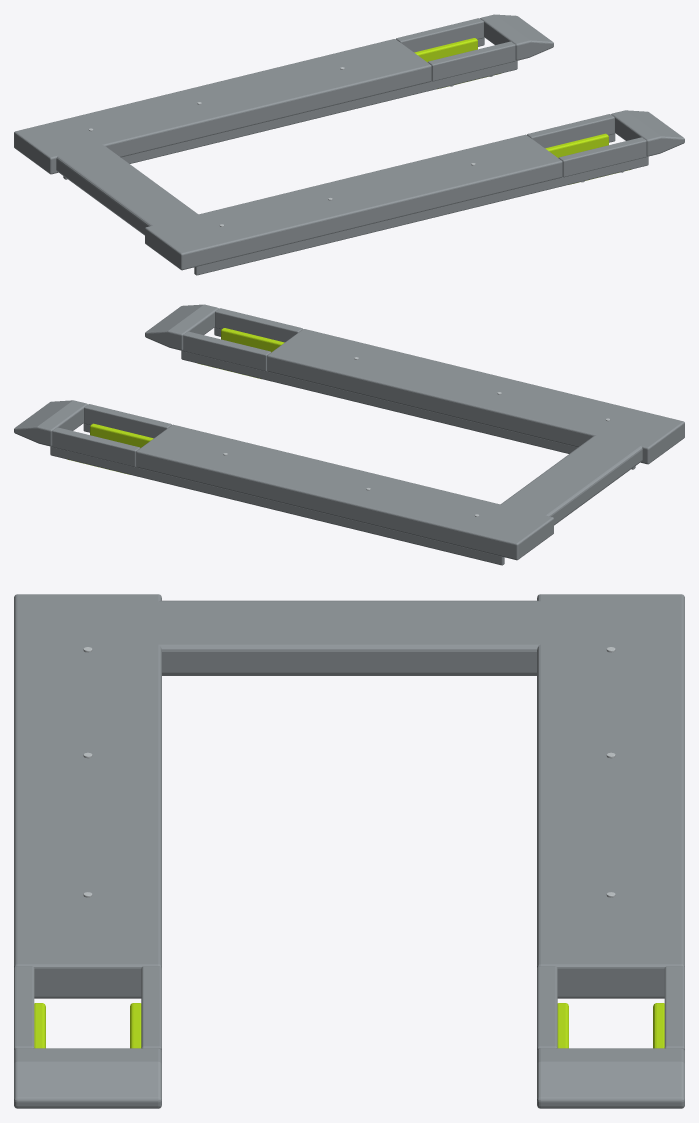
The model's file is SM_JX_ForkFrame.fbx.
3 renders of one model, top to bottom at view 1: azimuth 30°, elevation 25°; view 2: azimuth 150°, elevation 25°; view 3: azimuth 270°, elevation 25°, orthographic. The views are drawn at different scales.
Visible parts, largest first — view 1: SM_JX_ForkFrame; view 2: SM_JX_ForkFrame; view 3: SM_JX_ForkFrame.
Boxes of the visible parts, x1=… form: SM_JX_ForkFrame: x1=14, y1=14, x2=684, y2=275; SM_JX_ForkFrame: x1=14, y1=304, x2=684, y2=565; SM_JX_ForkFrame: x1=14, y1=594, x2=684, y2=1108.
Size of the model in its own units: 59 by 102 by 6.1.
